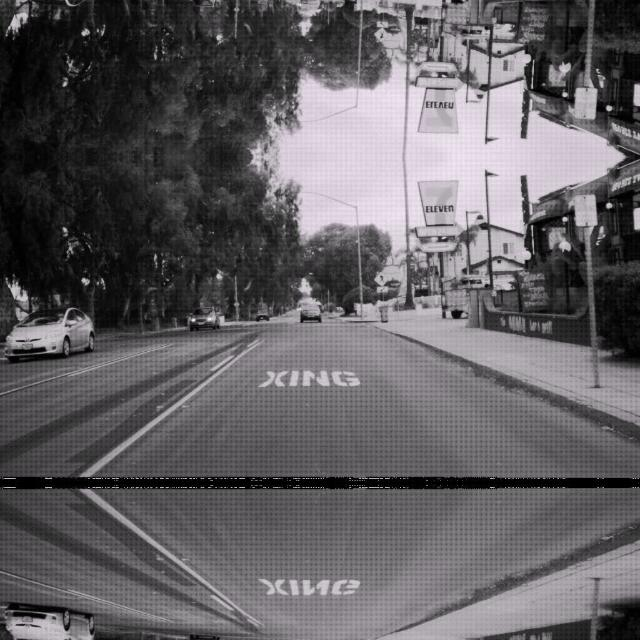pedestrianCrossing: (374, 270, 388, 286), (374, 26, 388, 42)
